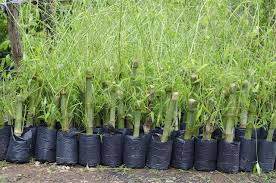bamboo: (8, 5, 276, 133)
